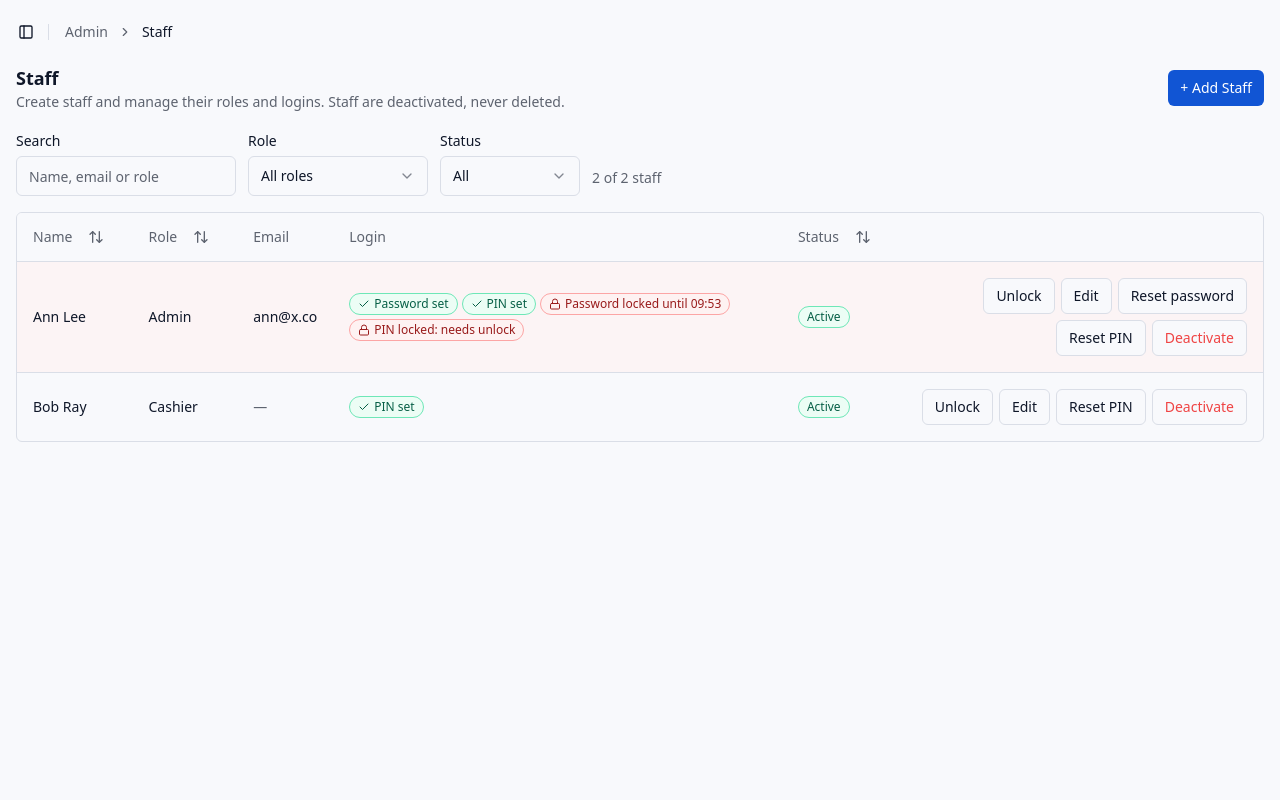
it: Staff page locks (backend without `blocks`) › confirms, unlocks with no body, and updates the row from the response
The image size is (1280, 800).
Expected: the text "Ann Lee" is shown, top-left (33, 306), bottom-right (86, 326)
Click the button "Unlock" in the row of "Ann Lee" at (1019, 296), box top-left (983, 278), bottom-right (1055, 314)
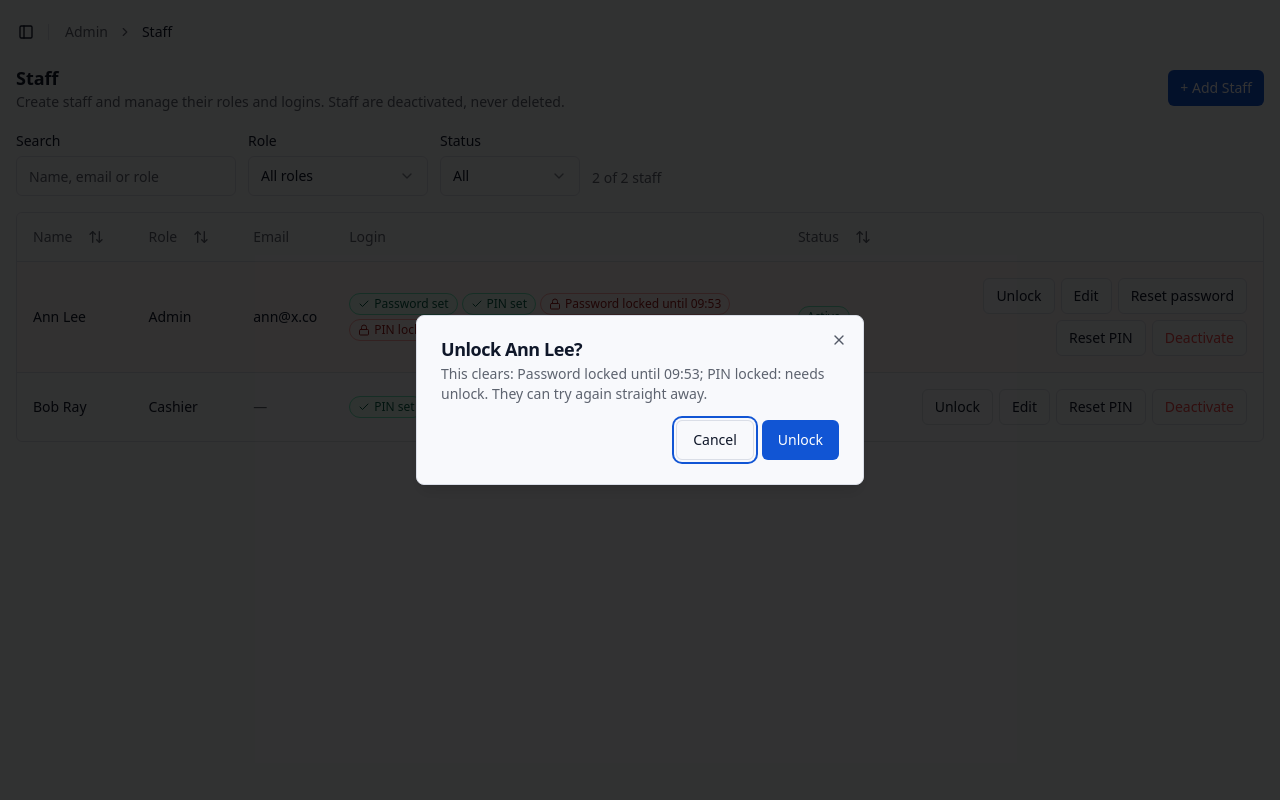
Result: the heading "Unlock Ann Lee?" is shown at top-left (441, 337), bottom-right (582, 361)
Click the button "Unlock" at (800, 440), box top-left (762, 420), bottom-right (839, 460)
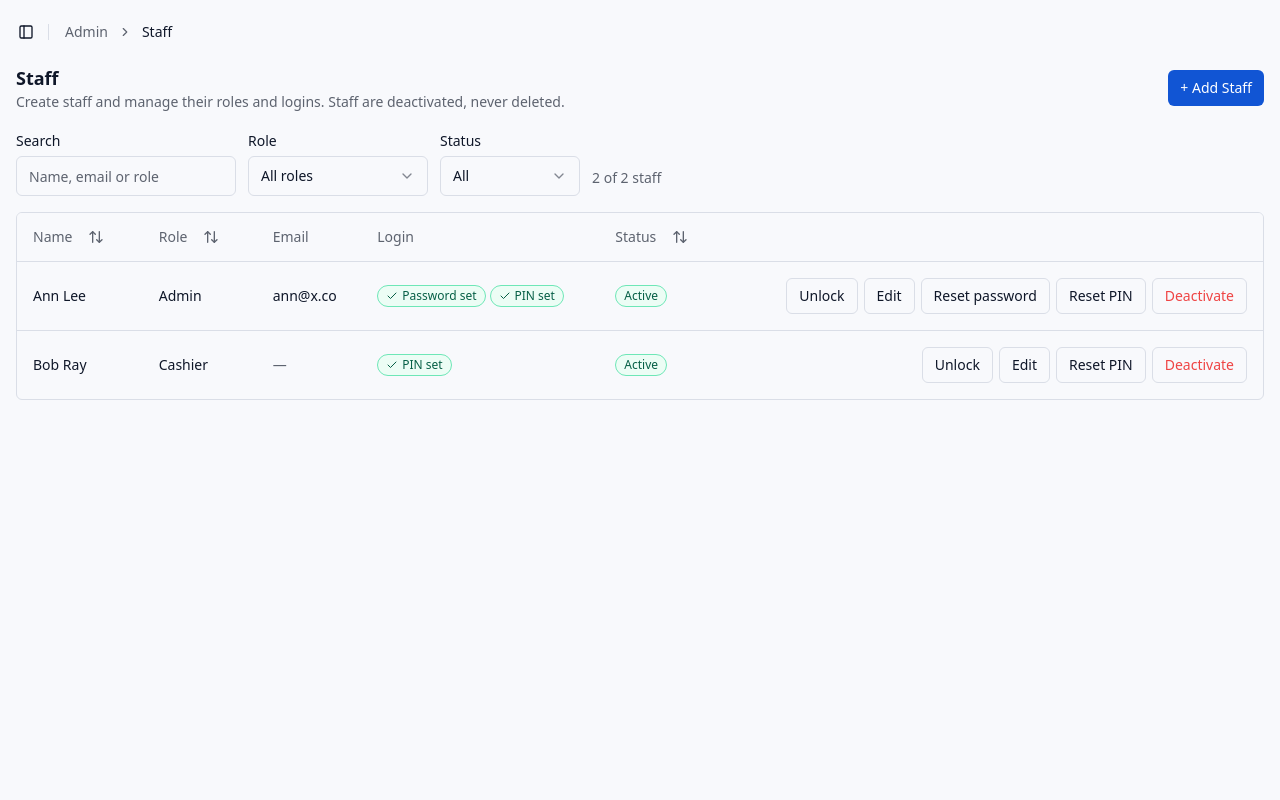
Result: the text "locked" is gone
